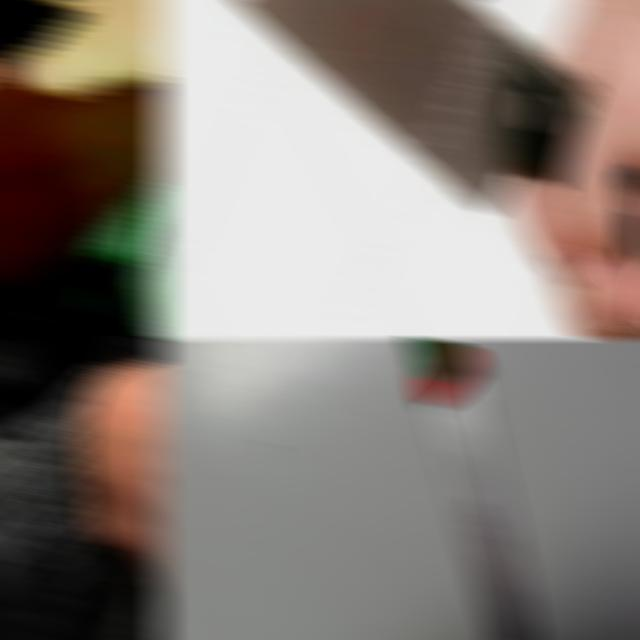Knife: (233, 0, 592, 213), (407, 338, 539, 640)
Knife_Handle: (231, 0, 640, 340), (73, 338, 167, 632)
